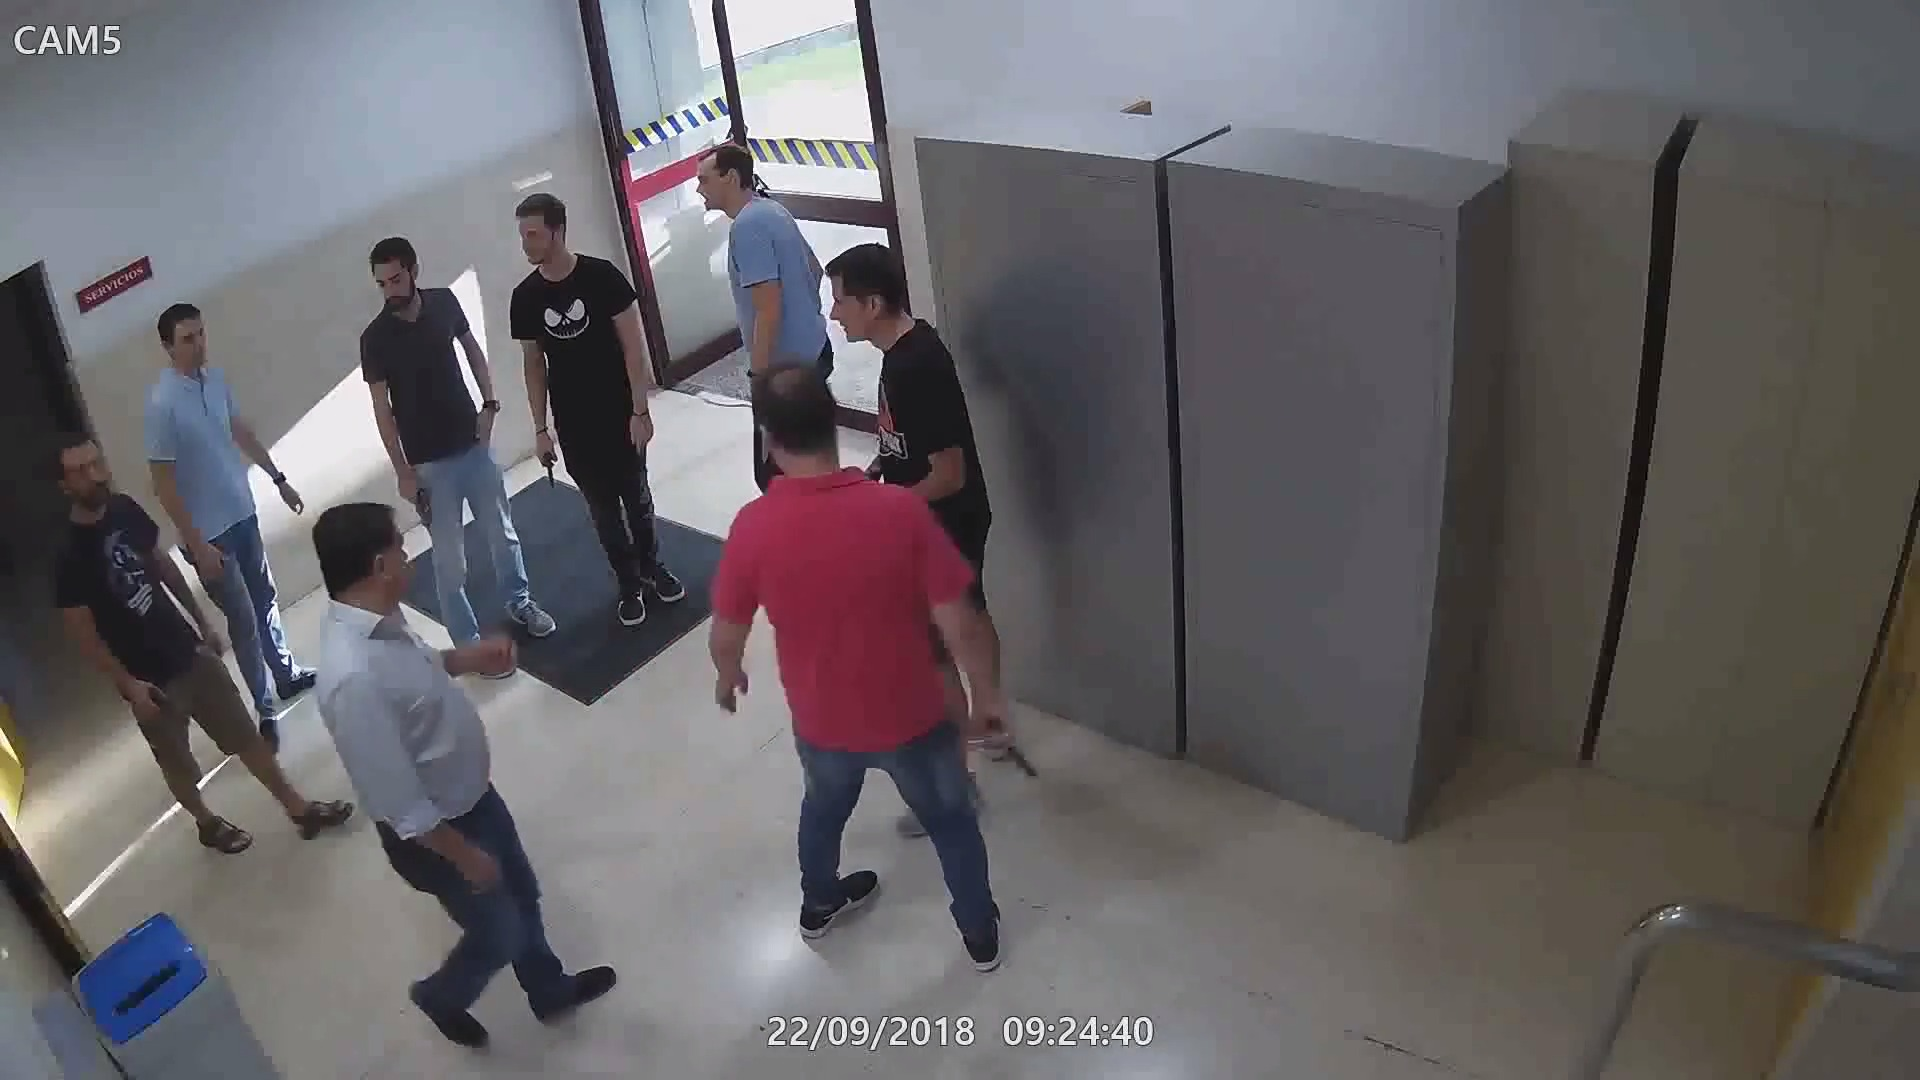Handgun: (969, 709, 1048, 785), (117, 679, 195, 733), (392, 467, 435, 527), (527, 430, 564, 491)
